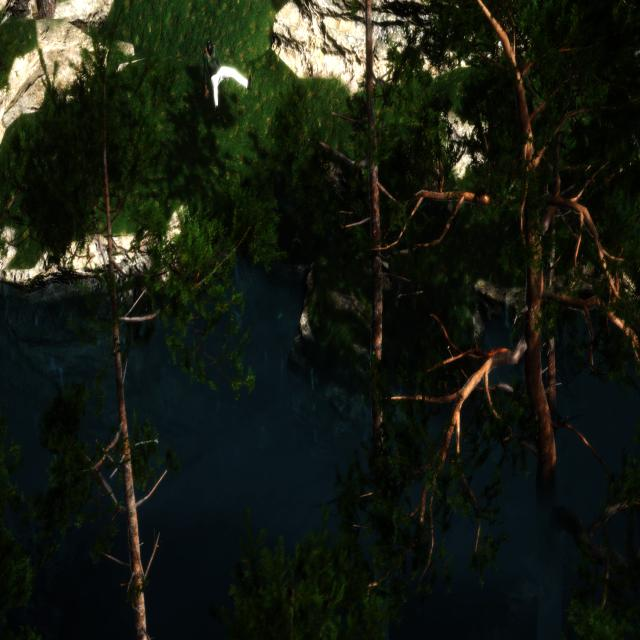Human: (203, 42, 255, 126)
